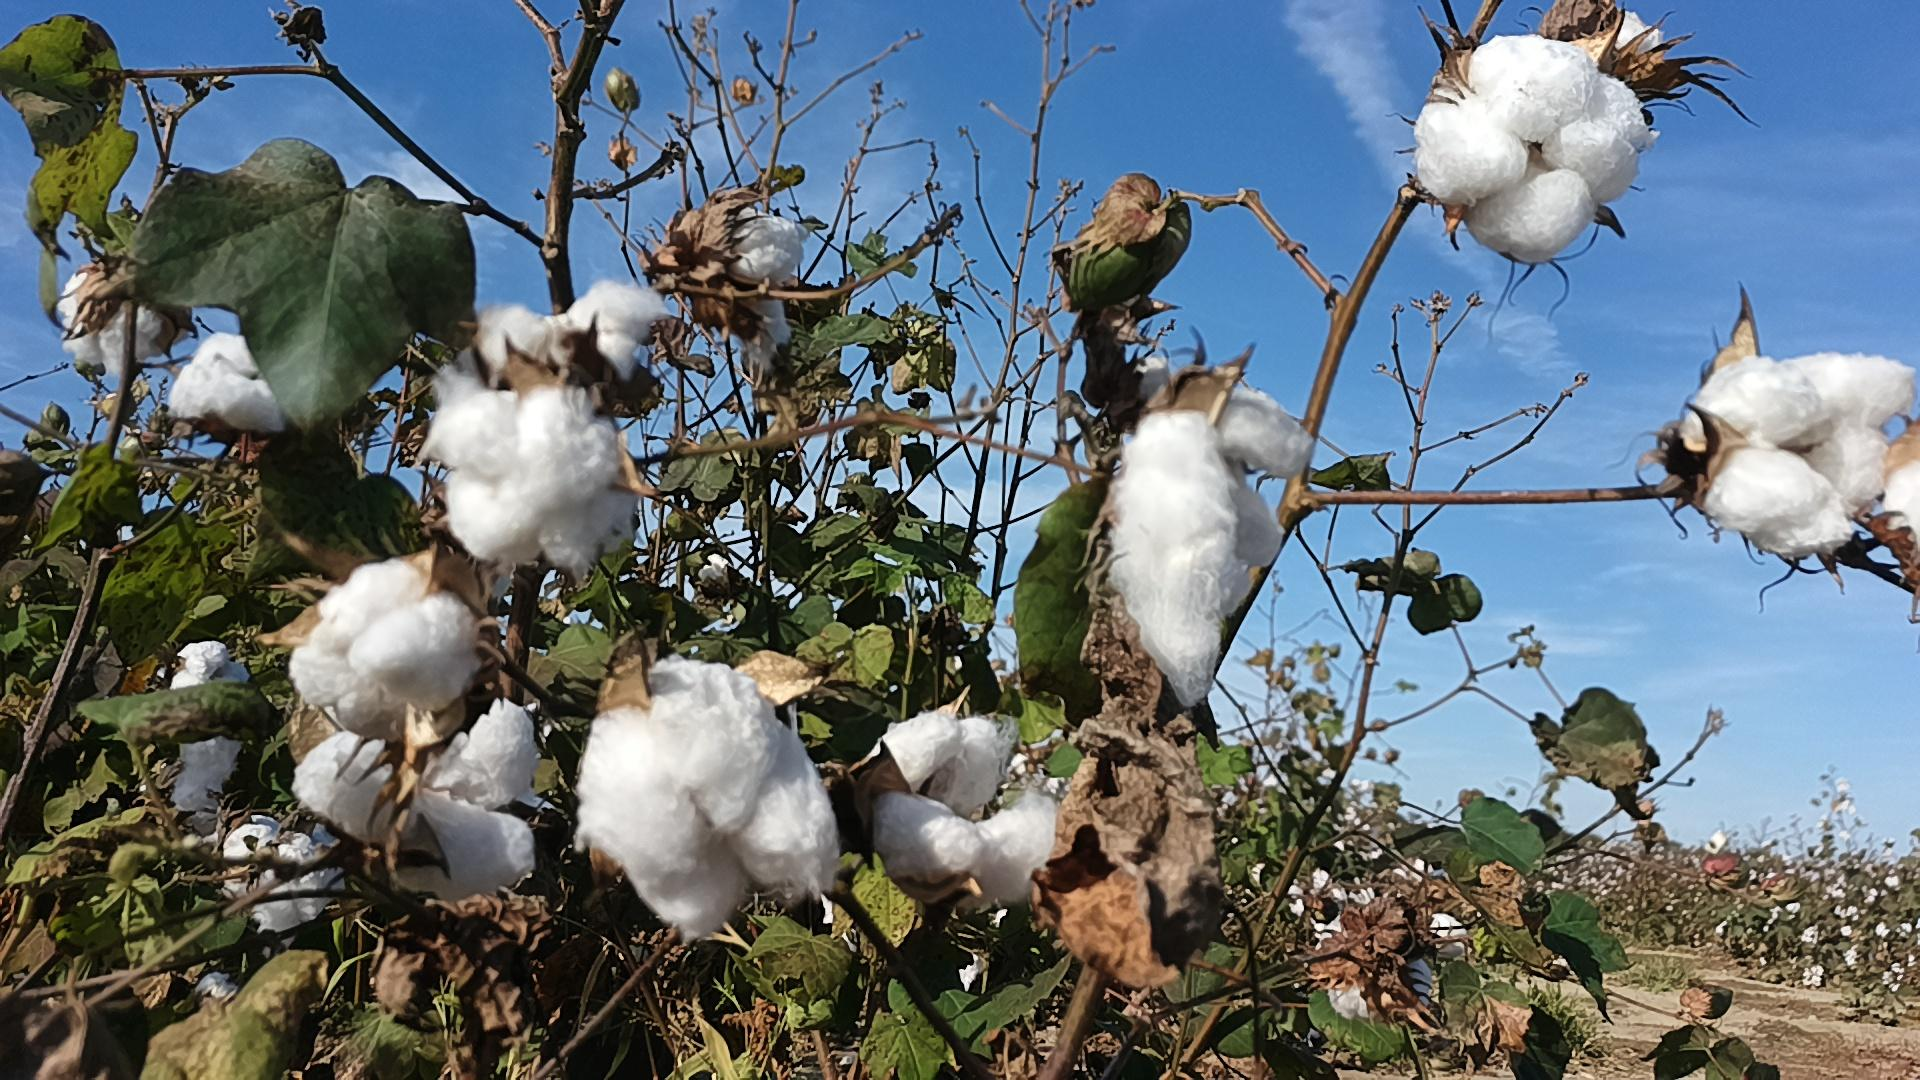cotton_ready: (580, 658, 839, 942), (1112, 359, 1316, 707), (1415, 38, 1643, 261), (291, 700, 541, 902), (1679, 355, 1919, 554), (425, 368, 640, 571), (862, 715, 1056, 903), (290, 560, 483, 728), (1543, 0, 1753, 116), (479, 281, 662, 382), (1319, 909, 1469, 1014), (166, 645, 255, 808), (712, 206, 807, 344), (167, 330, 290, 426), (223, 823, 327, 932), (61, 276, 161, 375), (1887, 419, 1920, 585)
